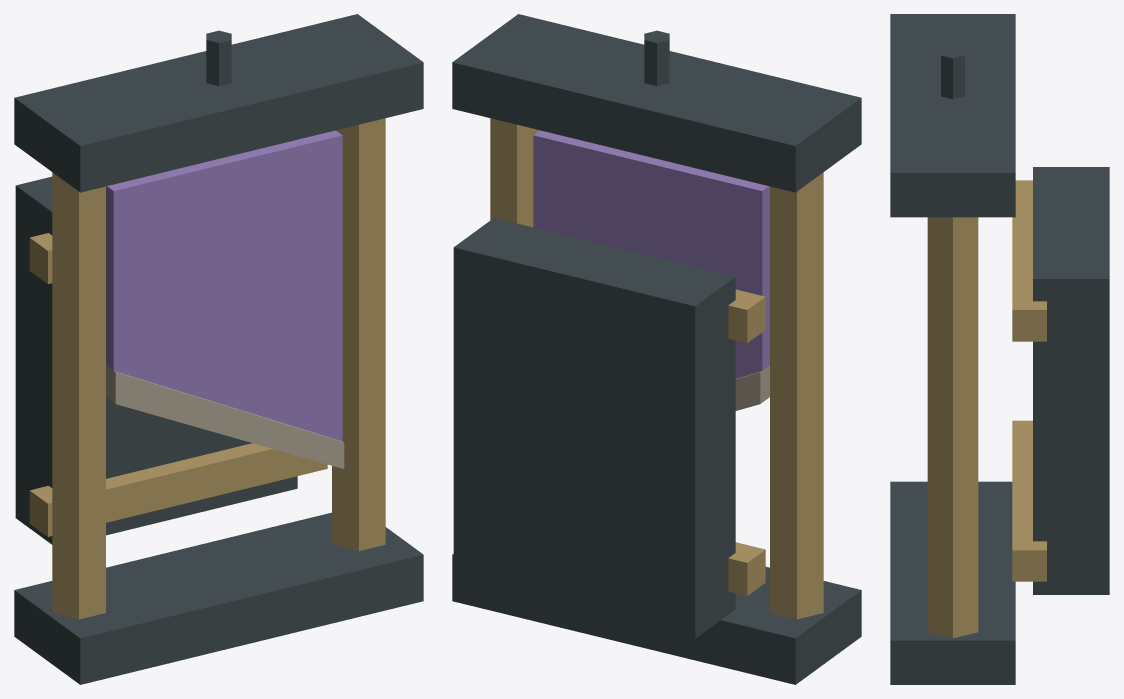
Rendered from Arsenal_SpellGuillotine.fbx.
The picture shows the model from 3 angles, left to right: view 1: azimuth 30°, elevation 25°; view 2: azimuth 150°, elevation 25°; view 3: azimuth 270°, elevation 25°; orthographic projection. The views are drawn at different scales.
Visible parts, largest first — view 1: Arsenal_SpellGuillotine; view 2: Arsenal_SpellGuillotine; view 3: Arsenal_SpellGuillotine.
Boxes of the visible parts, left/top/right/bottom form: Arsenal_SpellGuillotine: left=14, top=14, right=423, bottom=684; Arsenal_SpellGuillotine: left=452, top=14, right=861, bottom=684; Arsenal_SpellGuillotine: left=890, top=14, right=1109, bottom=684.
Bounding box in the file's own units: 0.27 × 0.4375 × 0.1575.
